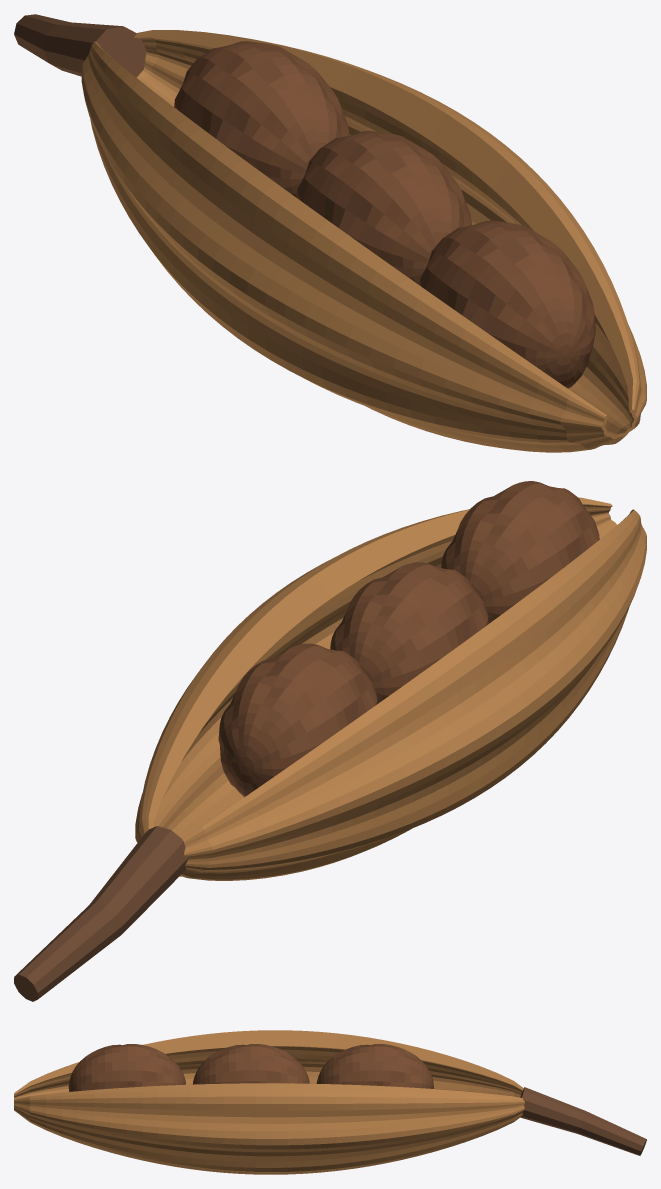
File: spirematospermum.glb
3 views of the same model, one above another, from view 1: azimuth 30°, elevation 25°; view 2: azimuth 150°, elevation 25°; view 3: azimuth 270°, elevation 25° (orthographic). The views are drawn at different scales.
Visible parts, largest first — view 1: Ribbed capsule thick open wall, Embedded spiral seed 1, Embedded spiral seed 3, Embedded spiral seed 2, Curved basal stalk; view 2: Ribbed capsule thick open wall, Embedded spiral seed 3, Embedded spiral seed 2, Embedded spiral seed 1, Curved basal stalk; view 3: Ribbed capsule thick open wall, Embedded spiral seed 1, Embedded spiral seed 3, Embedded spiral seed 2, Curved basal stalk.
Boxes of the visible parts, bbox=[...] form: Ribbed capsule thick open wall: bbox=[81, 30, 646, 452]; Embedded spiral seed 1: bbox=[419, 220, 595, 388]; Embedded spiral seed 3: bbox=[174, 41, 349, 197]; Embedded spiral seed 2: bbox=[296, 131, 471, 284]; Curved basal stalk: bbox=[14, 14, 146, 77]; Ribbed capsule thick open wall: bbox=[135, 497, 646, 880]; Embedded spiral seed 3: bbox=[218, 643, 377, 797]; Embedded spiral seed 2: bbox=[330, 562, 488, 703]; Embedded spiral seed 1: bbox=[441, 481, 599, 623]; Curved basal stalk: bbox=[14, 826, 188, 1001]; Ribbed capsule thick open wall: bbox=[14, 1030, 524, 1174]; Embedded spiral seed 1: bbox=[68, 1044, 185, 1091]; Embedded spiral seed 3: bbox=[316, 1044, 433, 1088]; Embedded spiral seed 2: bbox=[193, 1044, 309, 1084]; Curved basal stalk: bbox=[520, 1087, 646, 1155].
Size of the model in its own units: 0.017 by 0.0127 by 0.0613.
